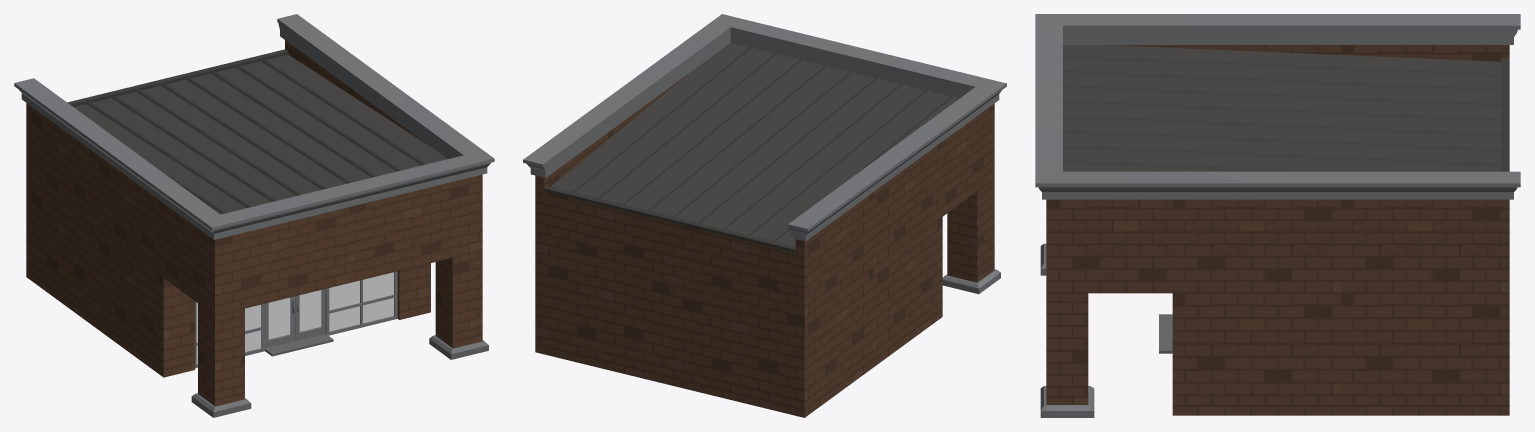
The model's file is SM_Bldg_City_Shop_10.fbx.
The picture shows the model from 3 angles, left to right: view 1: azimuth 30°, elevation 25°; view 2: azimuth 150°, elevation 25°; view 3: azimuth 270°, elevation 25°; orthographic projection. The views are drawn at different scales.
Parts seen in each view (by area): view 1: SM_Bldg_City_Shop_10, SM_Bldg_City_Shop_10_Glass; view 2: SM_Bldg_City_Shop_10; view 3: SM_Bldg_City_Shop_10.
Boxes of the visible parts, bbox=[...] form: SM_Bldg_City_Shop_10: bbox=[14, 14, 494, 417]; SM_Bldg_City_Shop_10_Glass: bbox=[196, 272, 393, 363]; SM_Bldg_City_Shop_10: bbox=[523, 14, 1006, 417]; SM_Bldg_City_Shop_10: bbox=[1035, 14, 1520, 417].
Size of the model in its own units: 952 by 620 by 1152.
